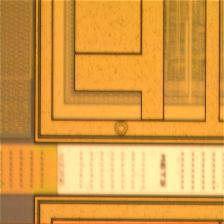PARTICLE: (114, 122, 130, 138)
